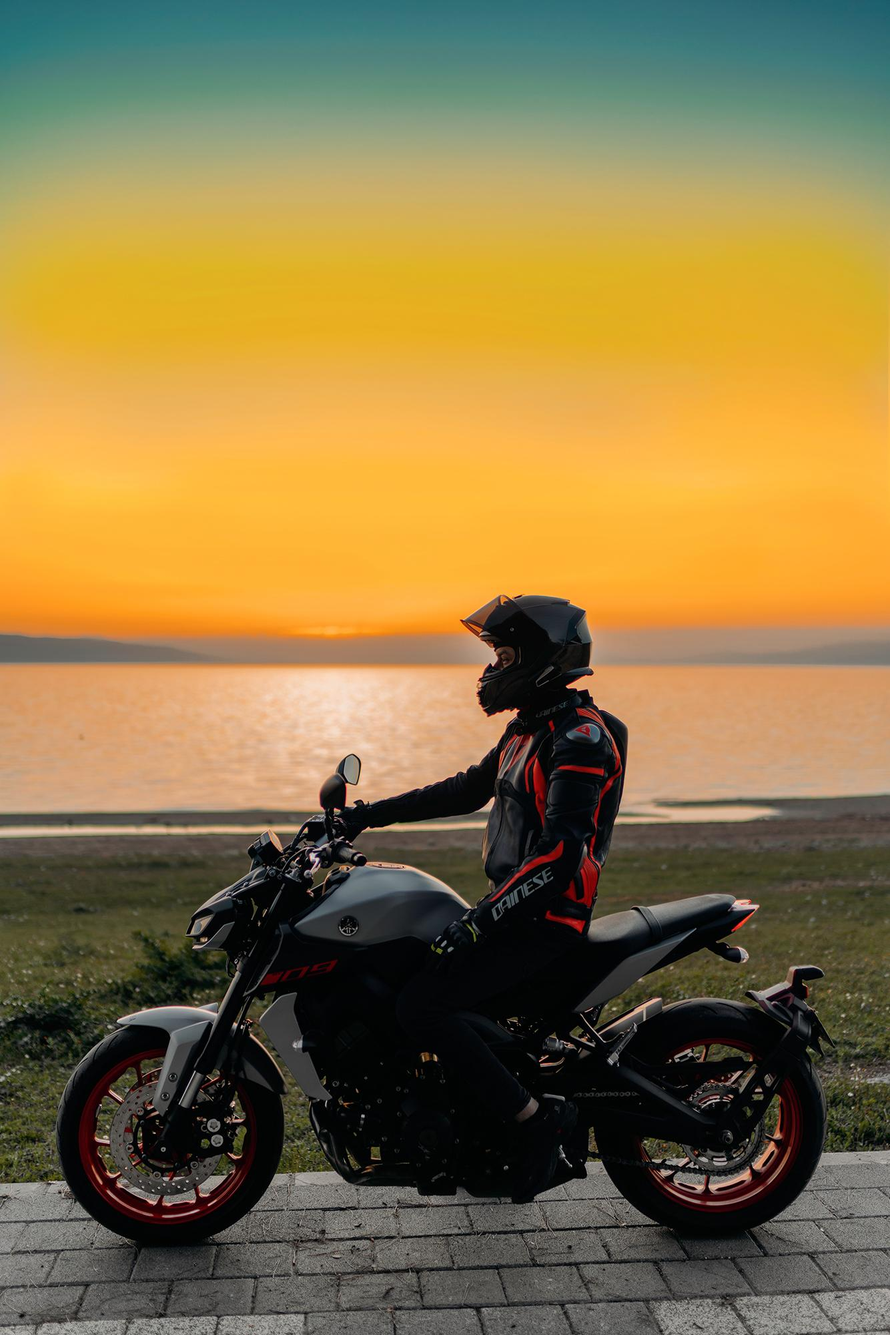helmet: (459, 593, 595, 718)
